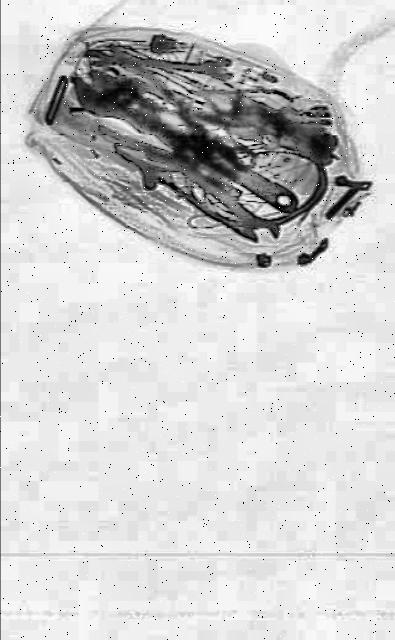Wrench: (68, 50, 304, 238), (158, 138, 282, 260)
